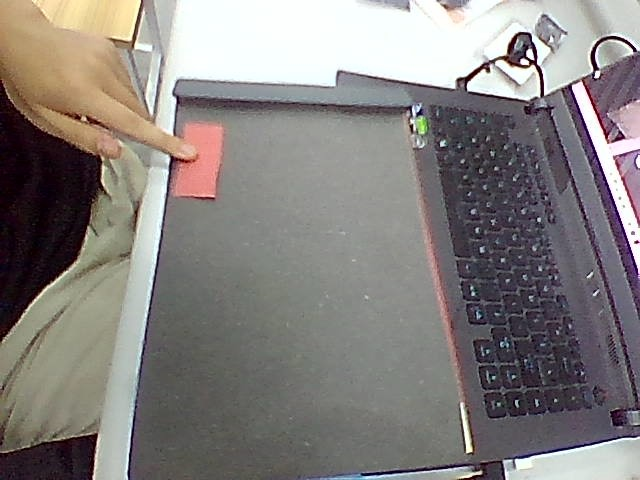card: (173, 123, 222, 198)
